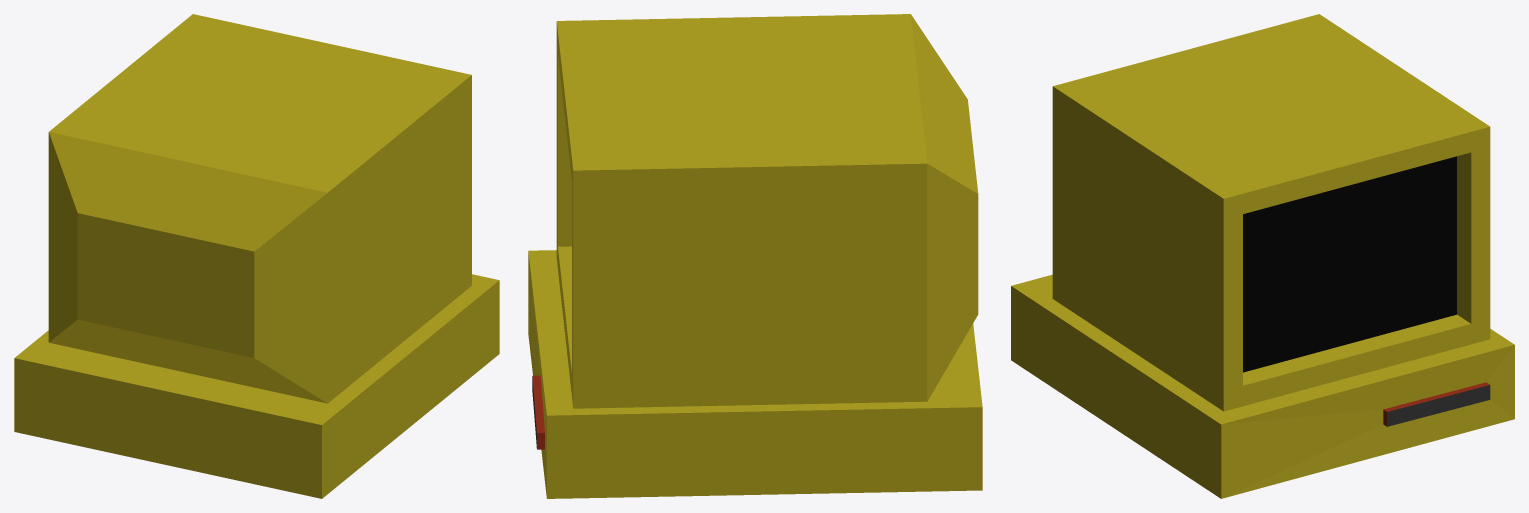
File: COMPUTER.glb
The picture shows the model from 3 angles, left to right: view 1: azimuth 30°, elevation 25°; view 2: azimuth 150°, elevation 25°; view 3: azimuth 270°, elevation 25°; orthographic projection. The views are drawn at different scales.
Parts seen in each view (by area): view 1: Cube.001; view 2: Cube.001; view 3: Cube.001.
Part boxes in pixels (x1=…): Cube.001: x1=14, y1=14, x2=499, y2=498; Cube.001: x1=528, y1=14, x2=982, y2=498; Cube.001: x1=1011, y1=14, x2=1514, y2=498.
Size of the model in its own units: 1.95 by 1.2 by 1.91.
Materials: 4 (1 with a texture image).
